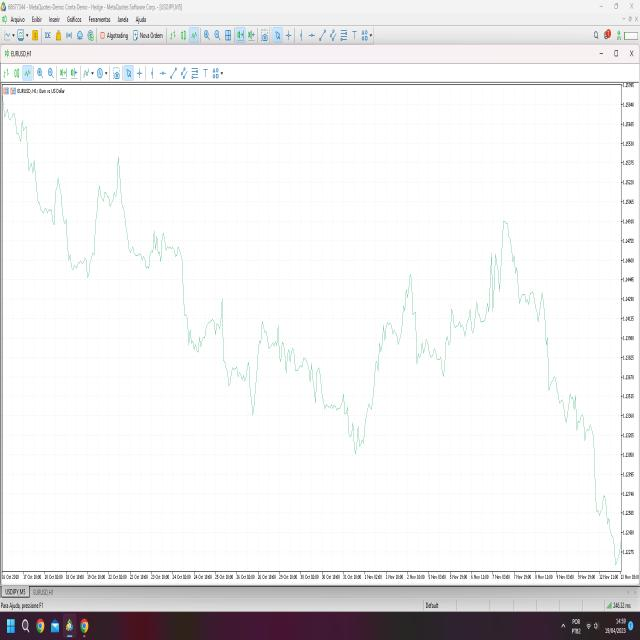bandeira_alta: (362, 306, 400, 451)
bandeira_baixa: (116, 146, 178, 293)
